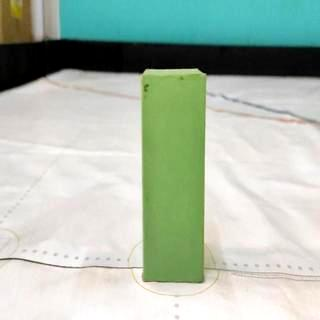greenbox: (140, 69, 203, 282)
